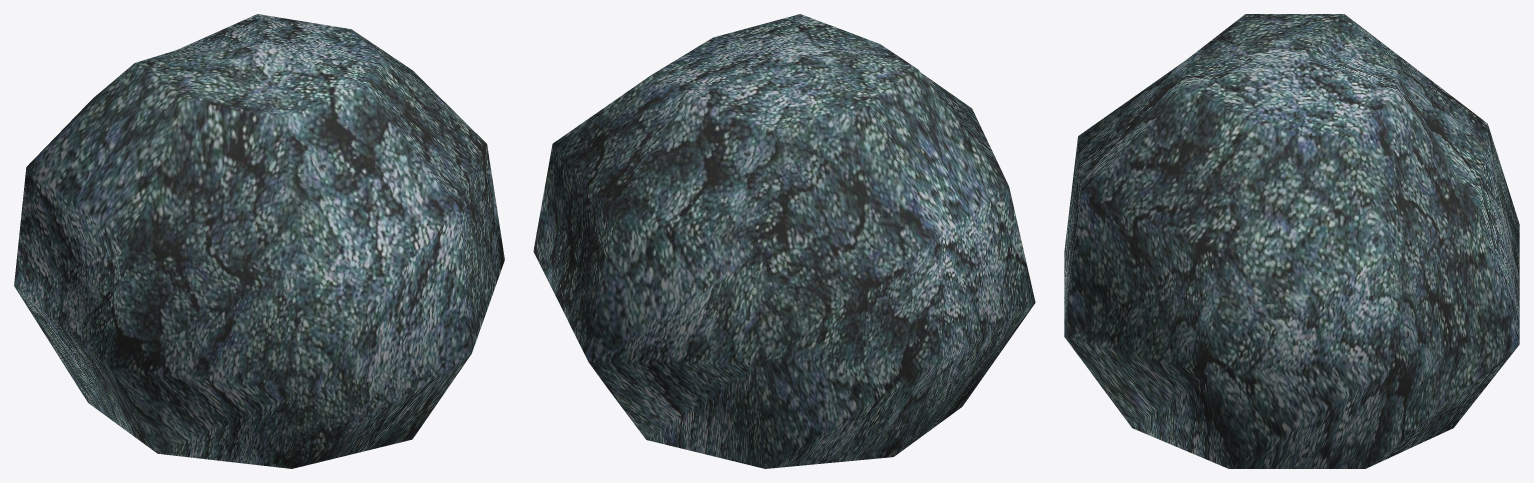
File: rock_crystl_watrbush_med_l1.fbx
3 views of the same model, side by side, from view 1: azimuth 30°, elevation 25°; view 2: azimuth 150°, elevation 25°; view 3: azimuth 270°, elevation 25° (orthographic).
Parts seen in each view (by area): view 1: mesh_node; view 2: mesh_node; view 3: mesh_node.
Part boxes in pixels (x1,y1,x2,y2): mesh_node: [14, 14, 504, 468]; mesh_node: [533, 14, 1035, 468]; mesh_node: [1064, 14, 1519, 468].
Bounding box in the file's own units: 2.35 × 1.91 × 2.3.
